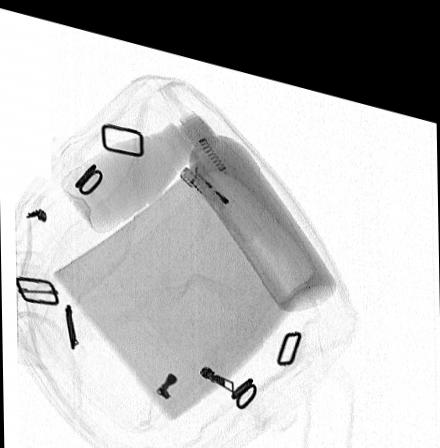Lighter: (177, 149, 261, 227)
